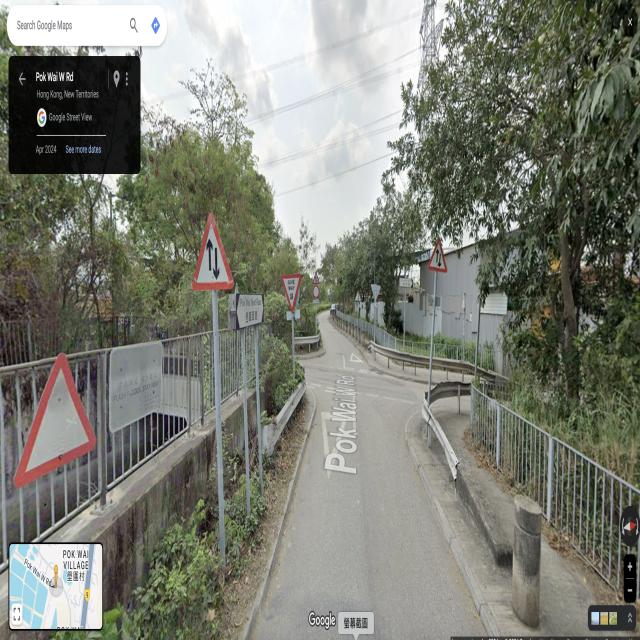Order-Sign: (313, 286, 319, 297), (313, 300, 319, 303)
Street-Direction-Sign: (237, 295, 264, 327), (400, 278, 413, 287)
Warning-Sign: (16, 359, 95, 482), (17, 359, 93, 479), (193, 213, 233, 288), (282, 275, 300, 310), (429, 239, 447, 271), (313, 272, 319, 284)
